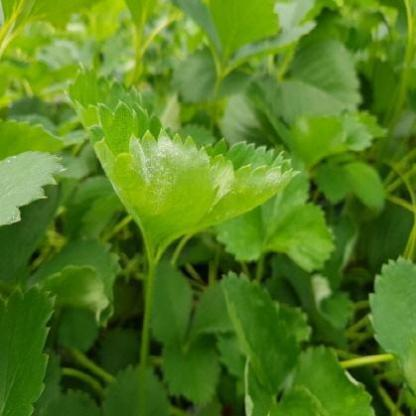Strawberry_Powdery_Mildew_Leaf: (93, 128, 220, 260), (190, 136, 303, 232)
